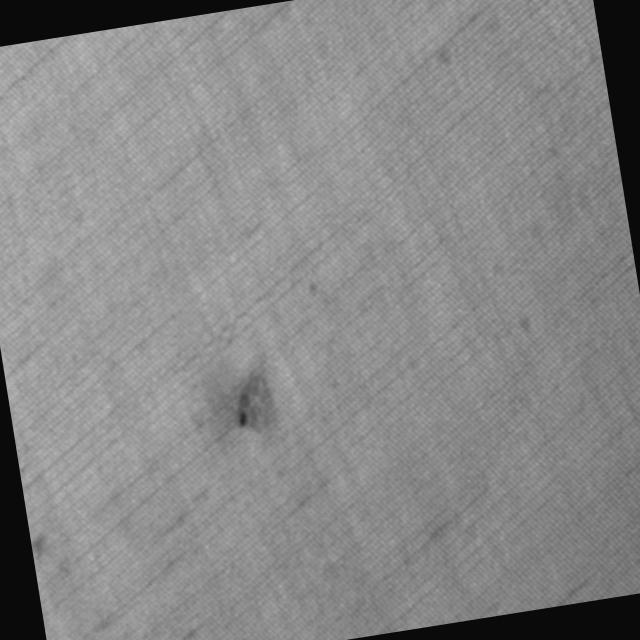objects: (224, 368, 278, 438)
